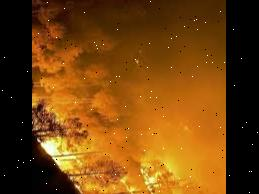fire: (32, 129, 216, 194)
